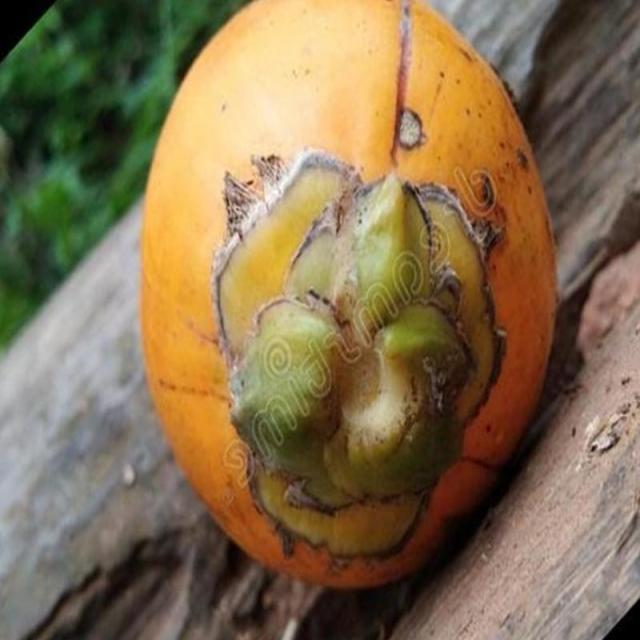good: (138, 0, 555, 596)
